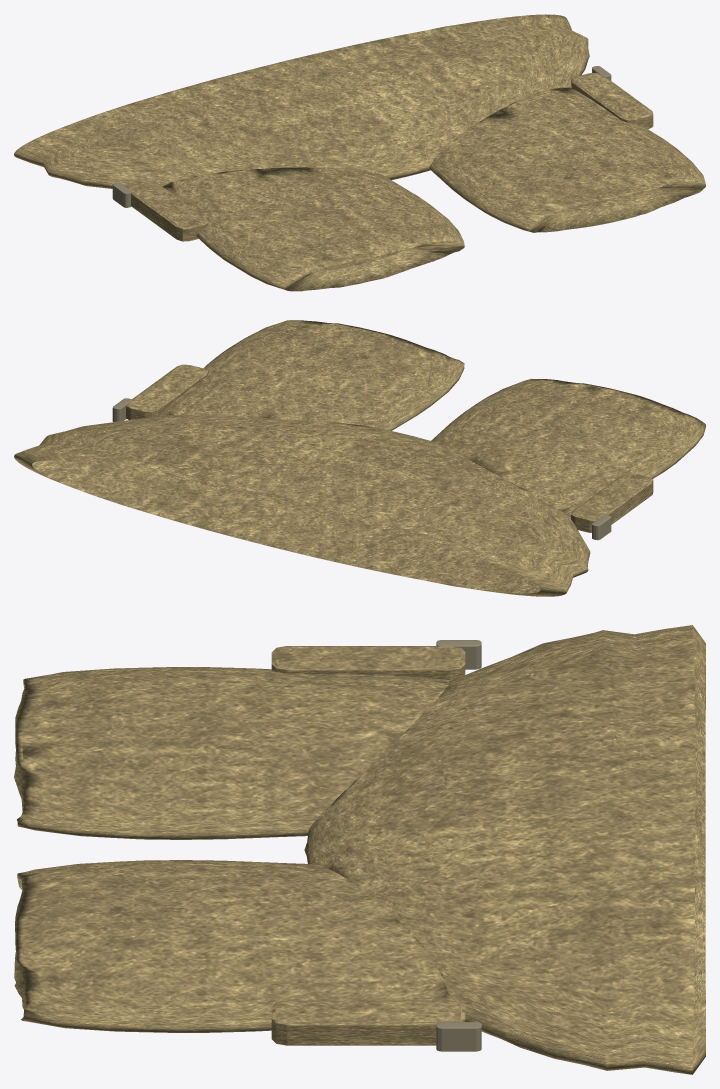
Rendered from cargo3.fbx.
The picture shows the model from 3 angles, top to bottom: view 1: azimuth 30°, elevation 25°; view 2: azimuth 150°, elevation 25°; view 3: azimuth 270°, elevation 25°; orthographic projection. The views are drawn at different scales.
Visible parts, largest first — view 1: cargo3; view 2: cargo3; view 3: cargo3.
Part boxes in pixels (x1,y1,x2,y2): cargo3: [14, 14, 705, 291]; cargo3: [14, 320, 705, 596]; cargo3: [14, 625, 705, 1074].
Size of the model in its own units: 0.8085 by 0.0744 by 0.5358.
2 materials, 1 textured.
